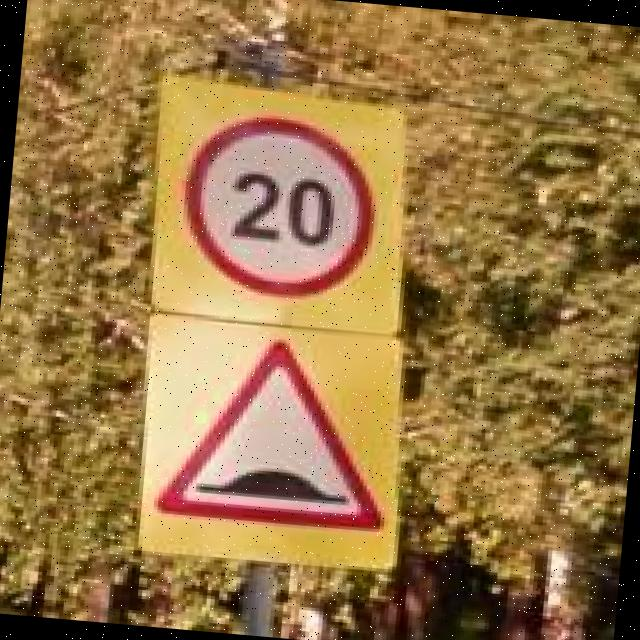Ograniczenie predkosci do 20: (172, 108, 382, 308)
